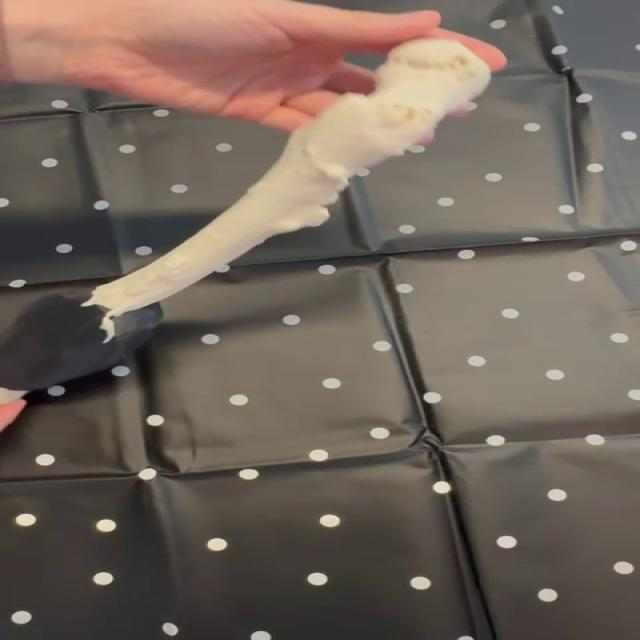bones: (0, 38, 490, 418)
